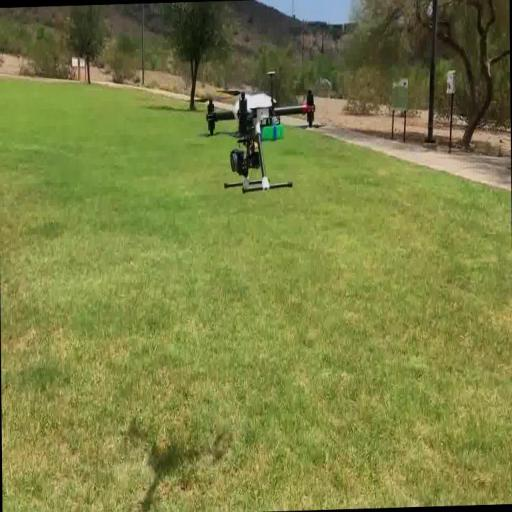drone: (187, 68, 330, 196)
